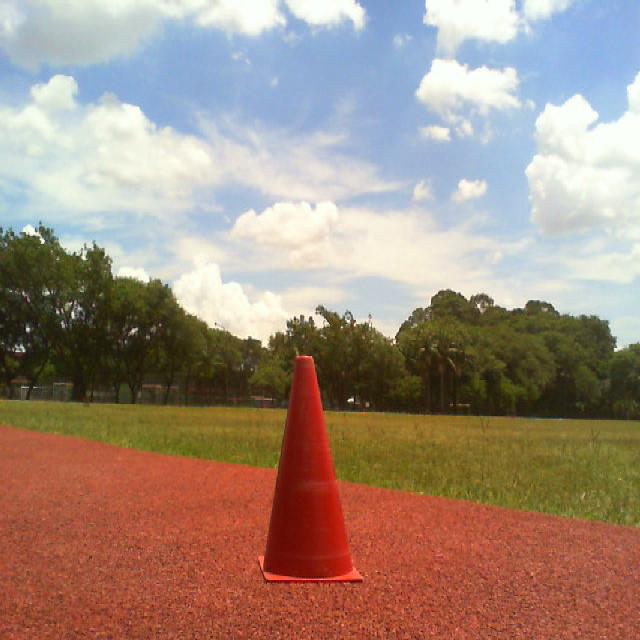cone: (256, 356, 363, 581)
